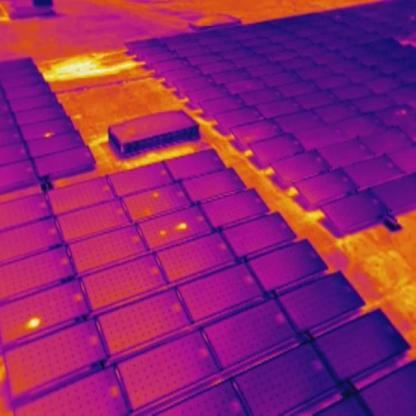anomaly: (173, 221, 194, 233), (28, 314, 43, 328)
